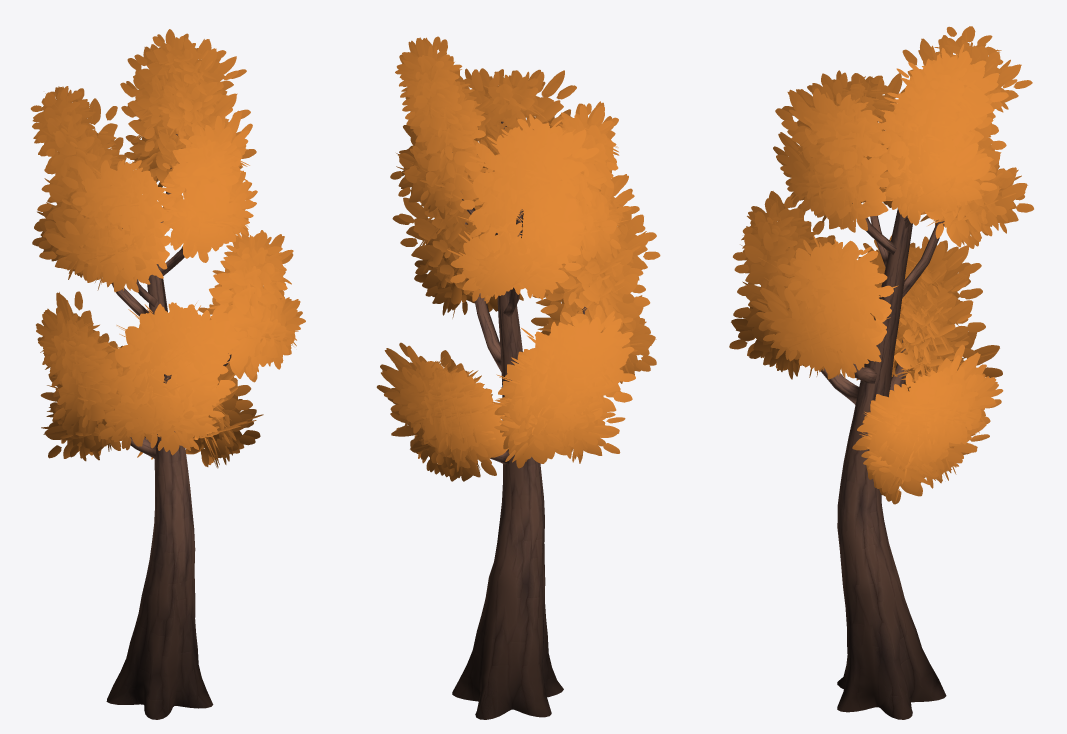
Rendered from CommonTree_3_Outono.gltf.
The picture shows the model from 3 angles, left to right: view 1: azimuth 30°, elevation 25°; view 2: azimuth 150°, elevation 25°; view 3: azimuth 270°, elevation 25°; orthographic projection. The views are drawn at different scales.
Parts seen in each view (by area): view 1: CommonTree_3; view 2: CommonTree_3; view 3: CommonTree_3.
Part boxes in pixels (x1=…): CommonTree_3: x1=30, y1=29, x2=305, y2=719; CommonTree_3: x1=376, y1=36, x2=660, y2=719; CommonTree_3: x1=729, y1=26, x2=1033, y2=719.
Size of the model in its own units: 4.06 by 9.43 by 4.24.
Materials: 2 (2 with a texture image).
